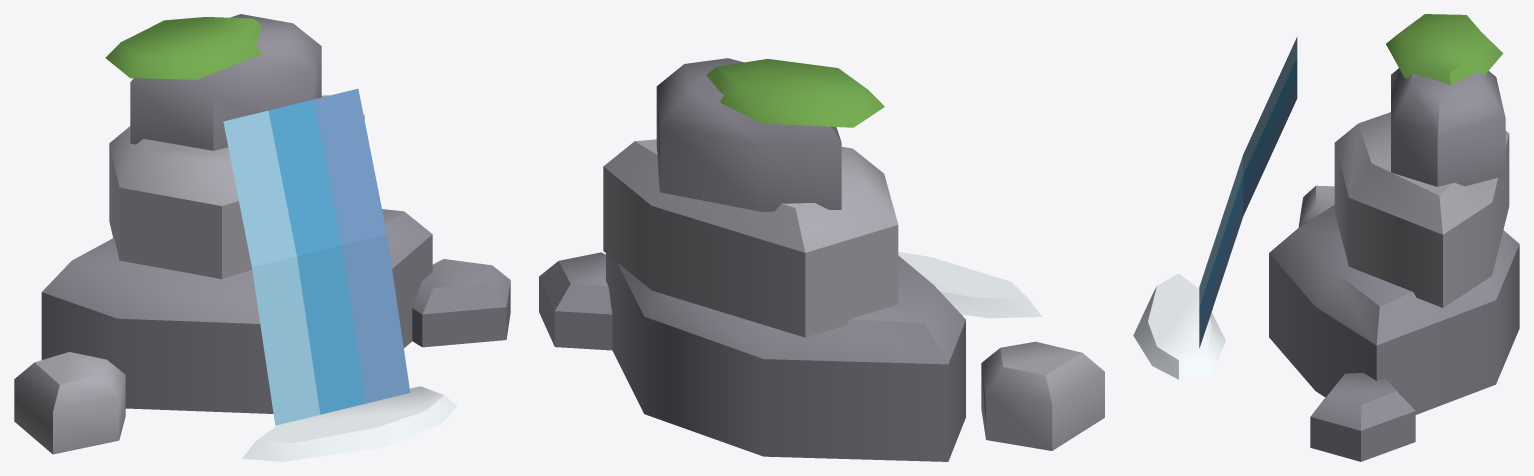
The model's file is terrarium_waterfall.glb.
The picture shows the model from 3 angles, left to right: view 1: azimuth 30°, elevation 25°; view 2: azimuth 150°, elevation 25°; view 3: azimuth 270°, elevation 25°; orthographic projection. The views are drawn at different scales.
Visible parts, largest first — view 1: terrarium_waterfall, water_sheet; view 2: terrarium_waterfall; view 3: terrarium_waterfall, water_sheet.
Boxes of the visible parts, x1,y1,x2,y2 form: terrarium_waterfall: (14,14,510,461); water_sheet: (223,88,410,425); terrarium_waterfall: (539,58,1104,461); terrarium_waterfall: (1133,14,1519,461); water_sheet: (1199,37,1297,348).
Size of the model in its own units: 2.17 by 1.32 by 1.58.
Materials: 1 (1 with a texture image).
